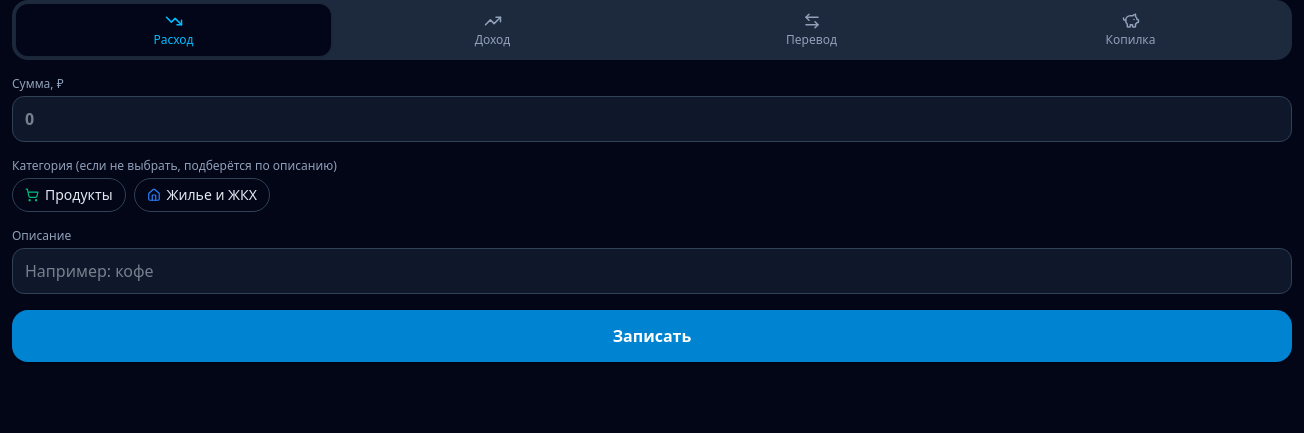
Scenario: EntryForm (Mini App input) › shows the server reason when saving fails
This screenshot has width=1304, height=433.
Expected: the element named "Тип записи" is shown, [12,0,1292,60]
Type "100" into the field labelled "Сумма, ₽". click: (652,119)
box: [12,96,1292,142]
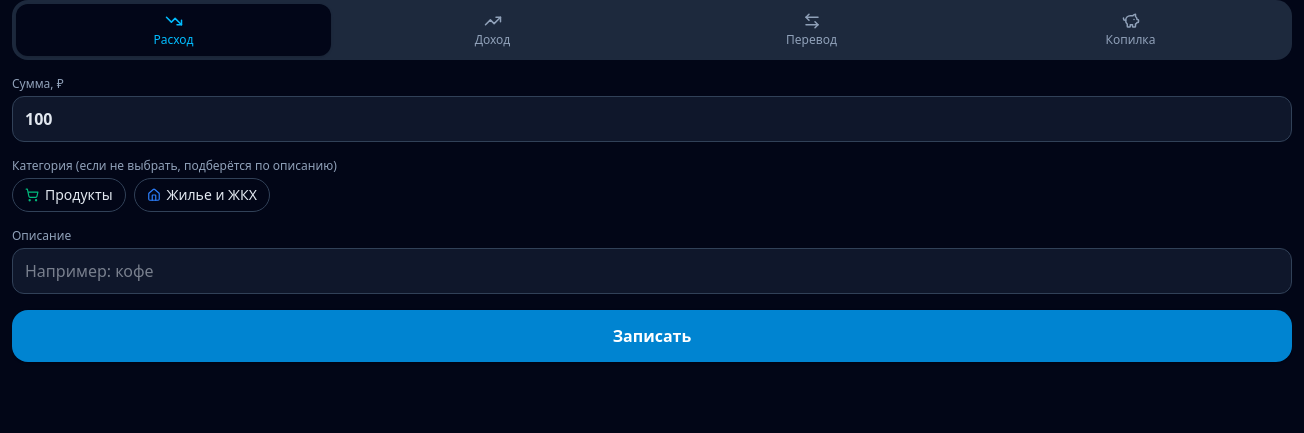
Click the button "Записать". click: (652,336)
box: [12,310,1292,362]
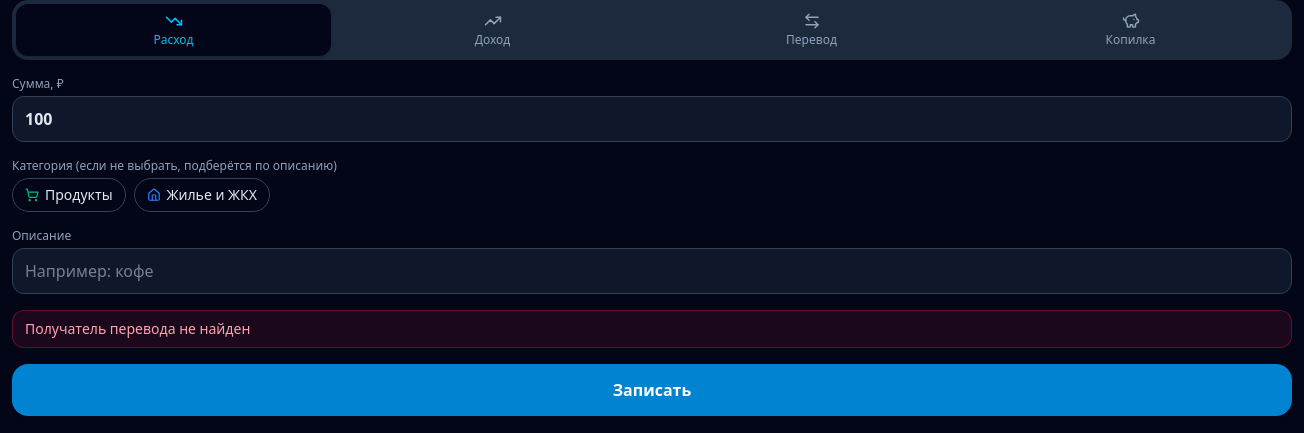
Result: the text "Получатель перевода не найден" is shown at [12,310,1292,348]
